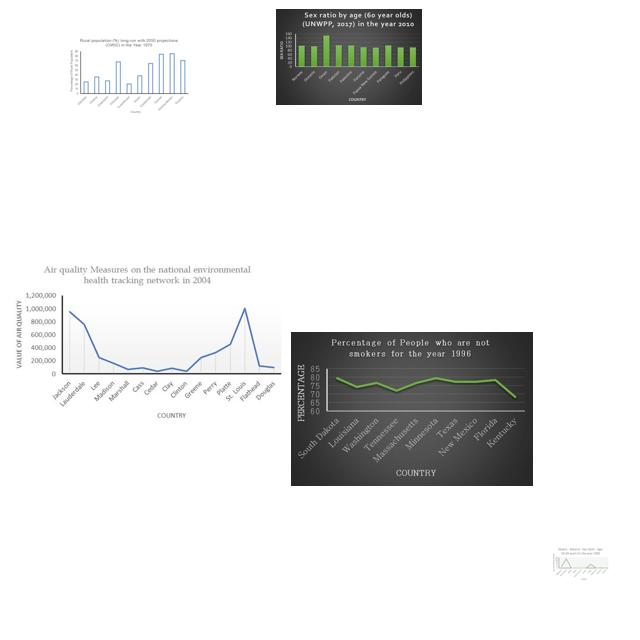Graph: (9, 260, 287, 427), (291, 332, 533, 486), (276, 9, 422, 105), (68, 38, 190, 116), (551, 546, 609, 582)
